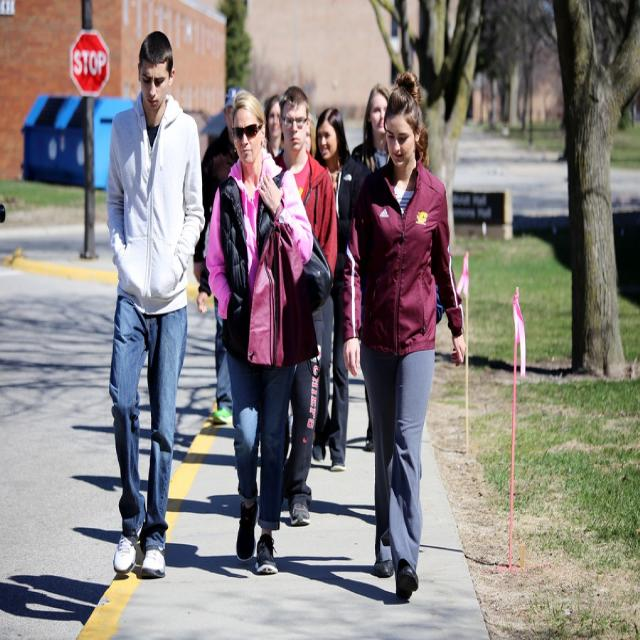body: (336, 66, 467, 607), (62, 405, 408, 607), (203, 86, 336, 580), (103, 22, 207, 584), (269, 83, 339, 530), (310, 103, 360, 474), (190, 84, 244, 285), (349, 79, 396, 175), (262, 86, 318, 164)
